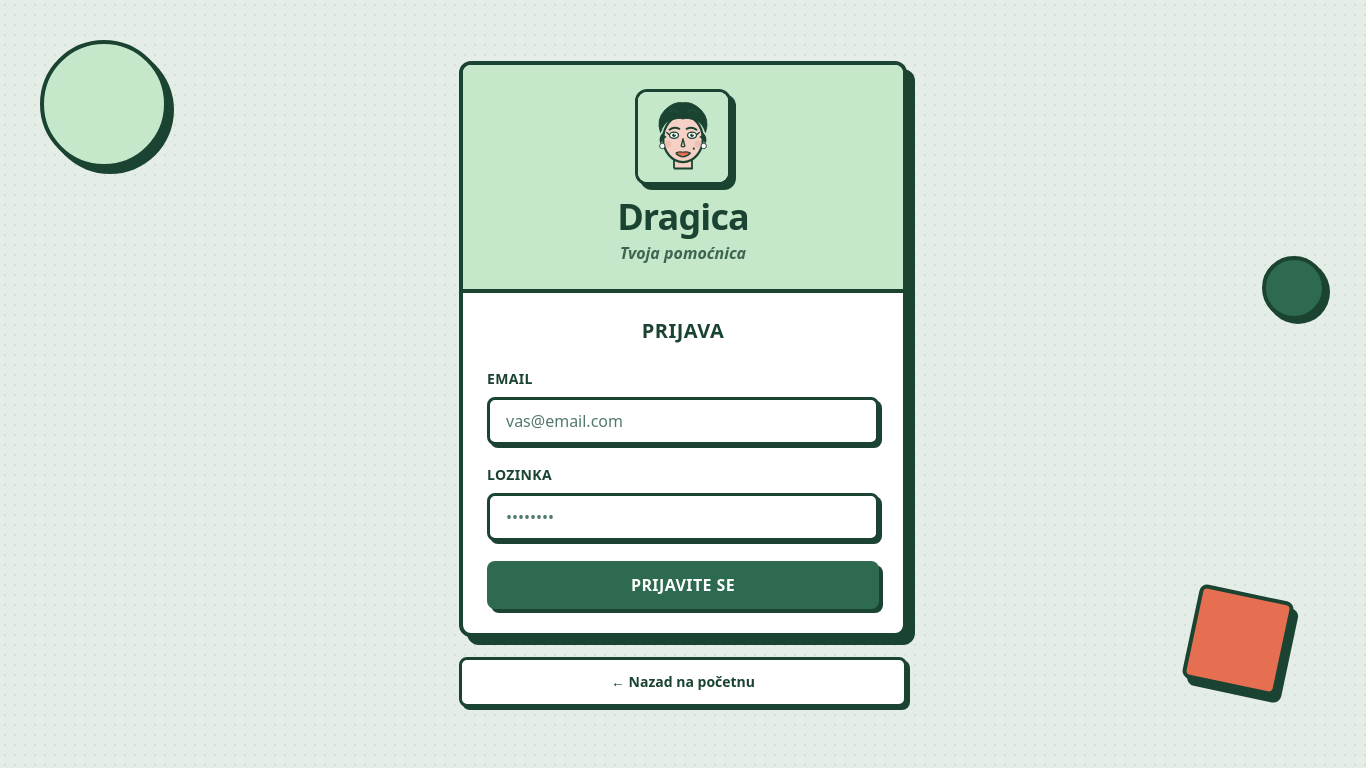
Test case: Login Page › should show error for invalid credentials
Step 1. Type "test@example.com" into the field labelled "Email" → coordinates (683, 421), box [487, 397, 879, 445]
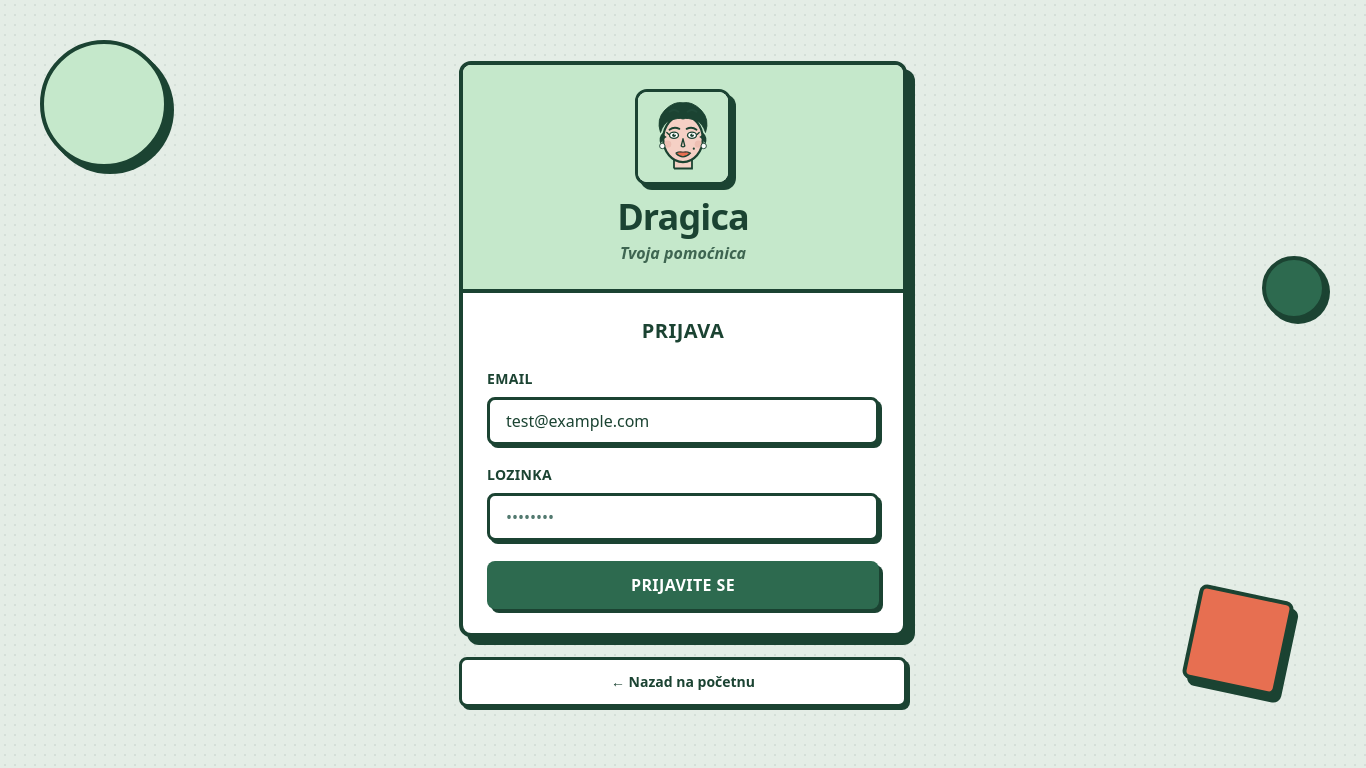
Step 2. Type "wrongpassword" into the password field labelled "Lozinka" → coordinates (683, 517), box [487, 493, 879, 541]
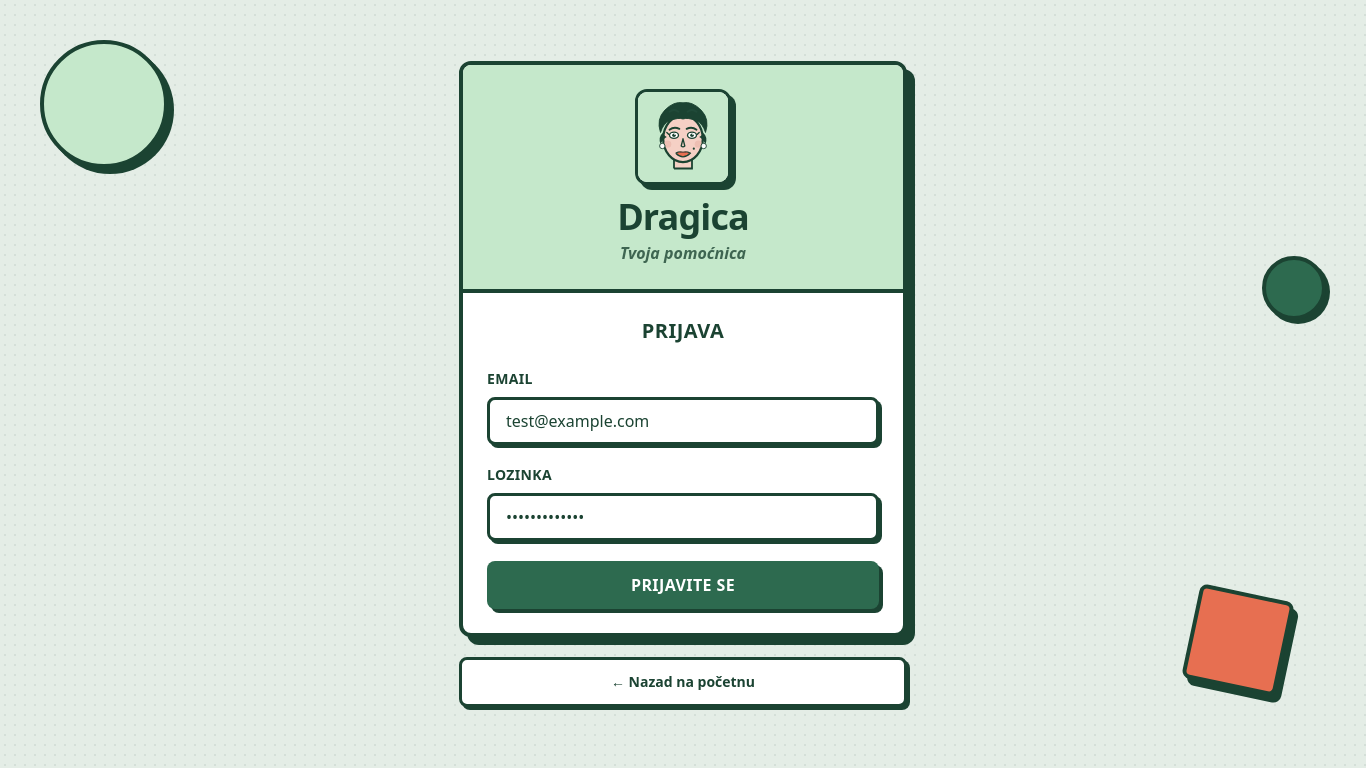
Step 3. Click the button "Prijavite se" → coordinates (683, 585), box [487, 561, 879, 609]
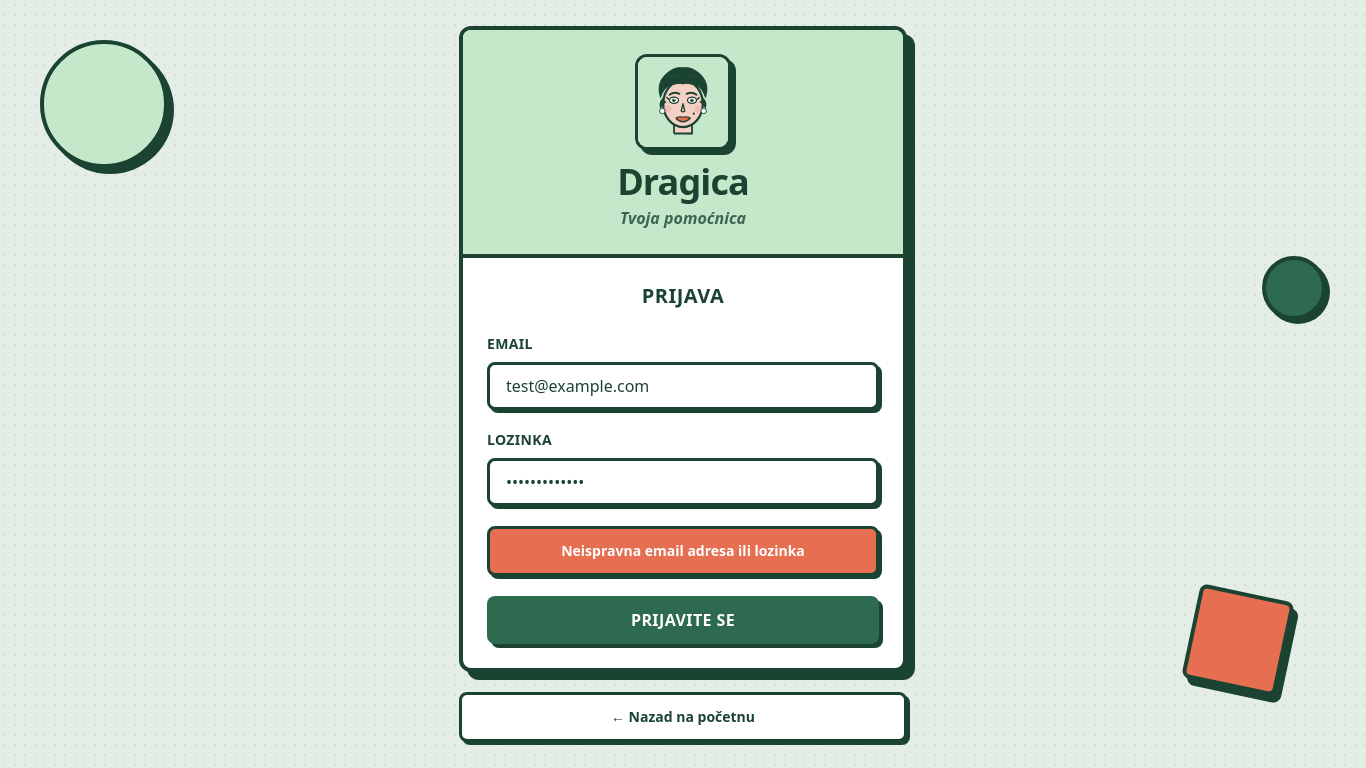
Now the text "Neispravna email adresa ili lozinka" is shown, box [487, 526, 879, 576]
